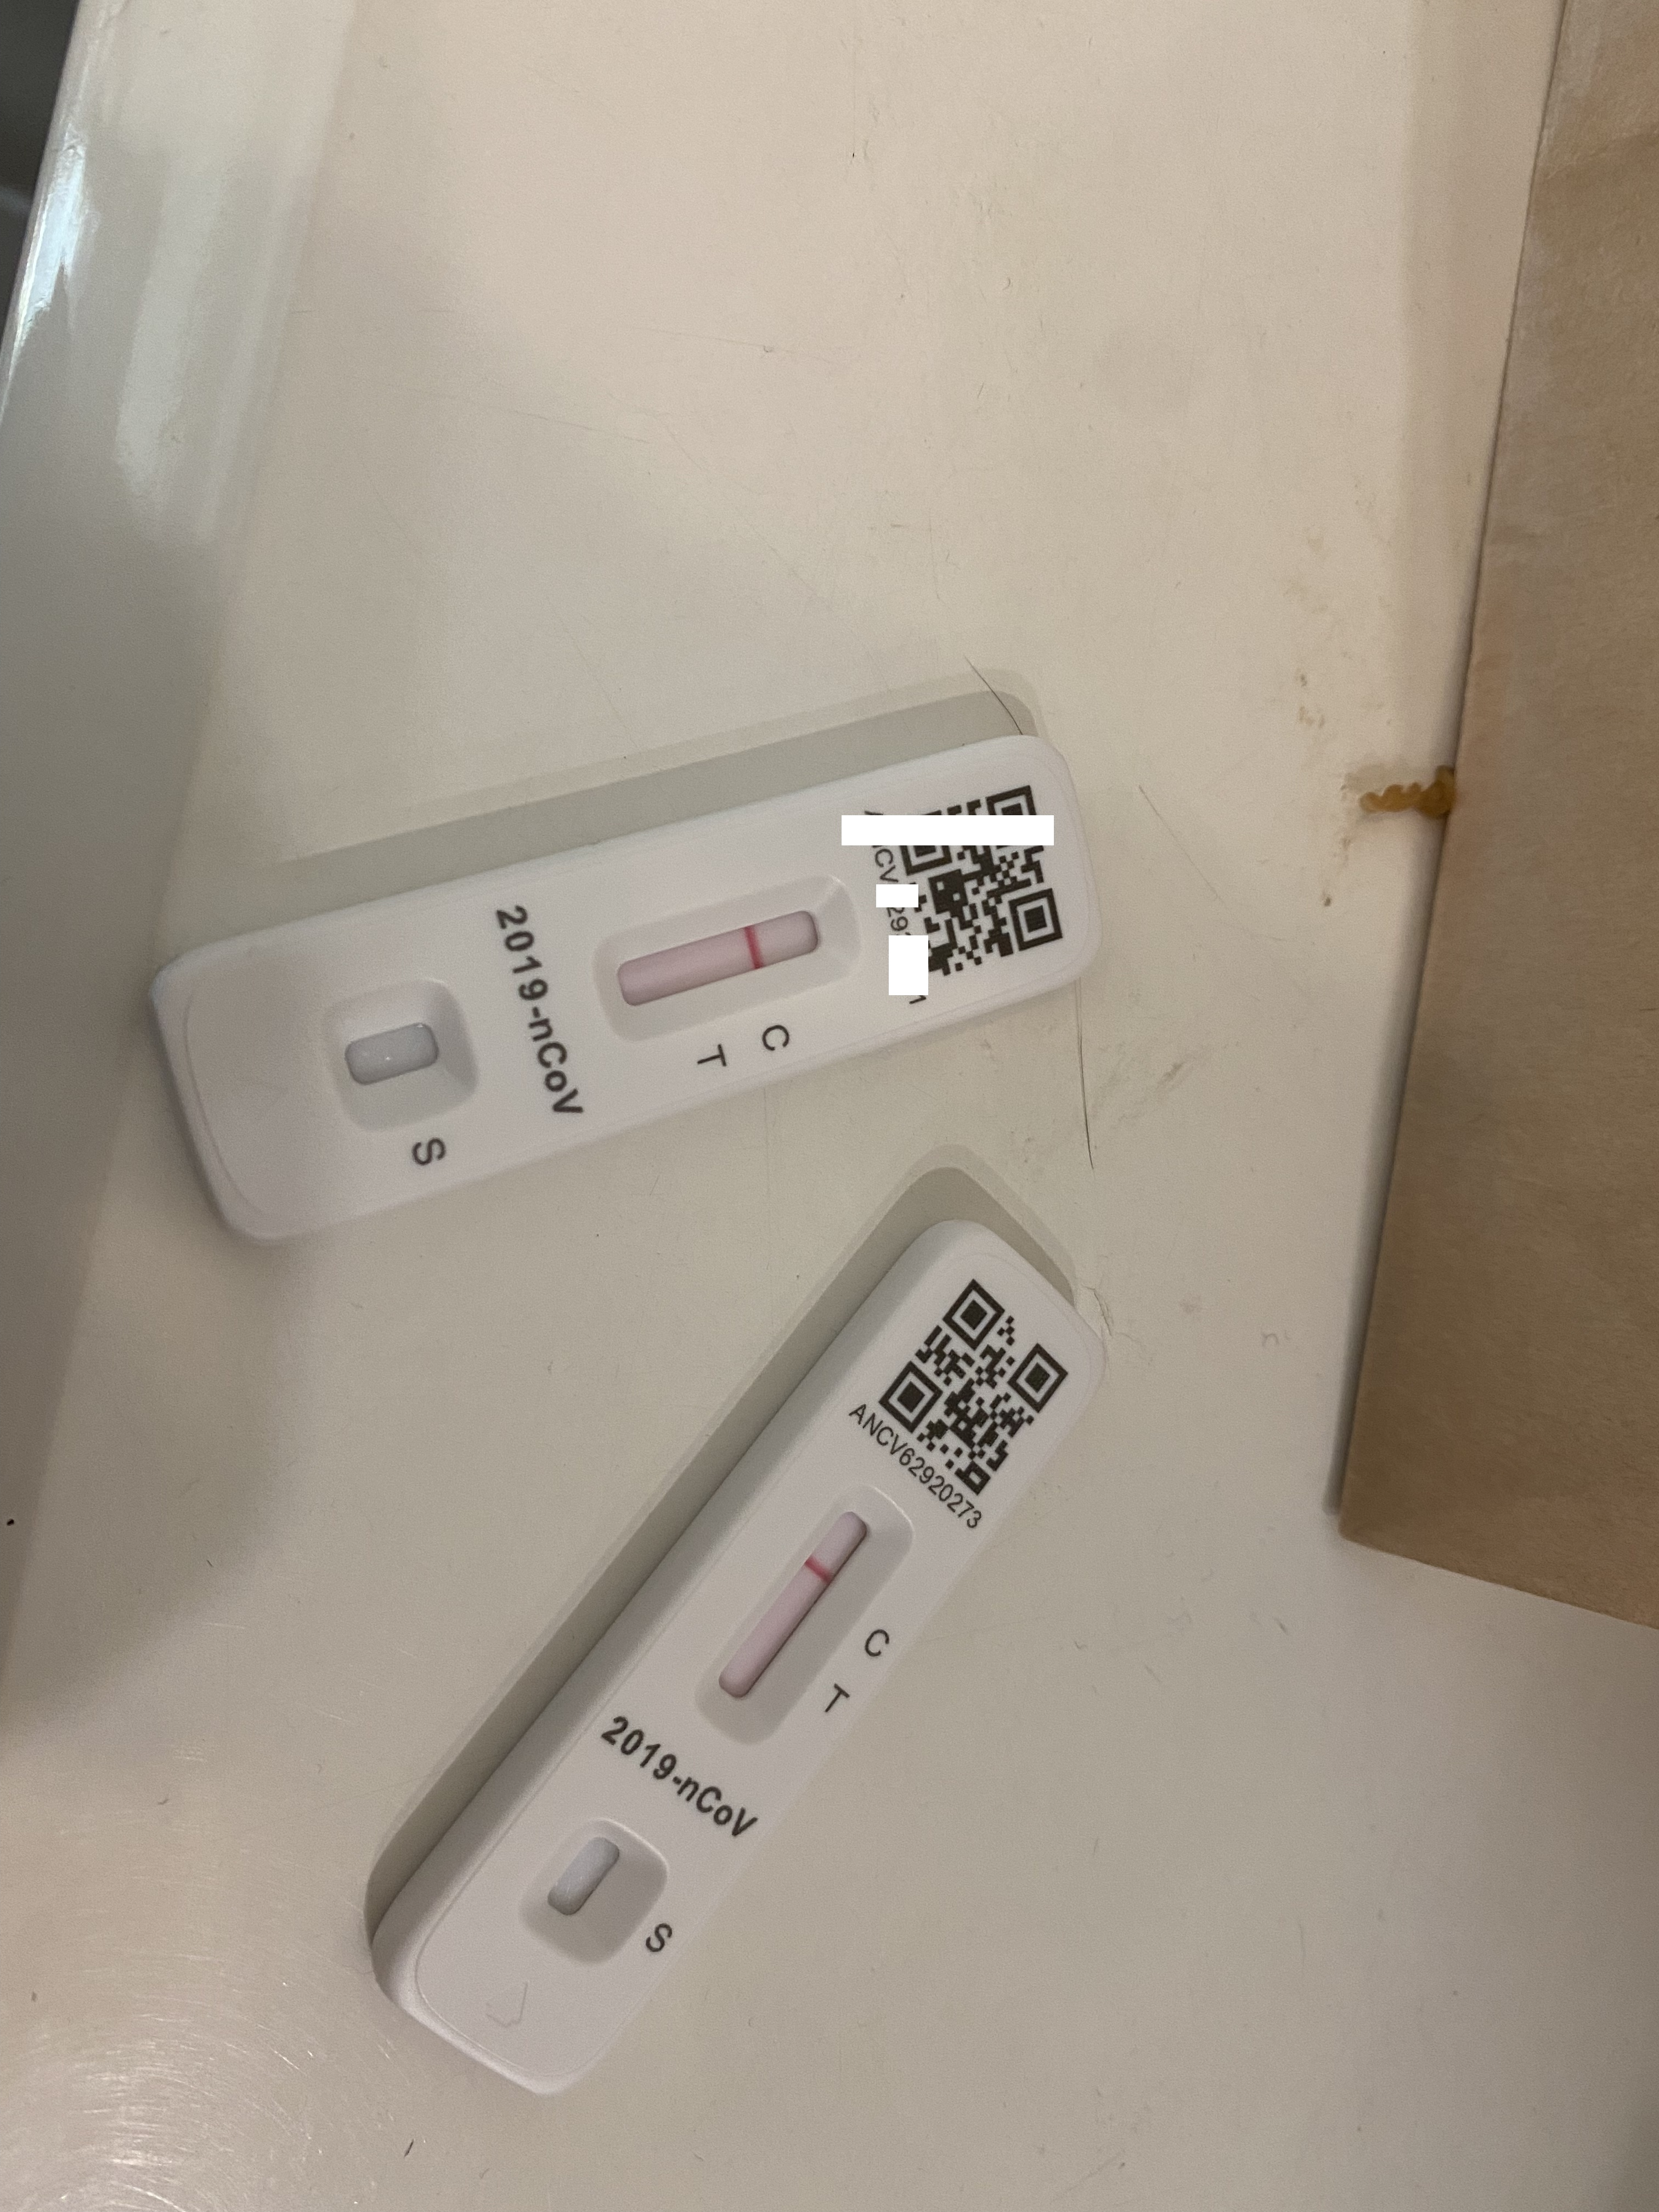negative: (716, 1505, 896, 1709), (613, 885, 852, 1024)
